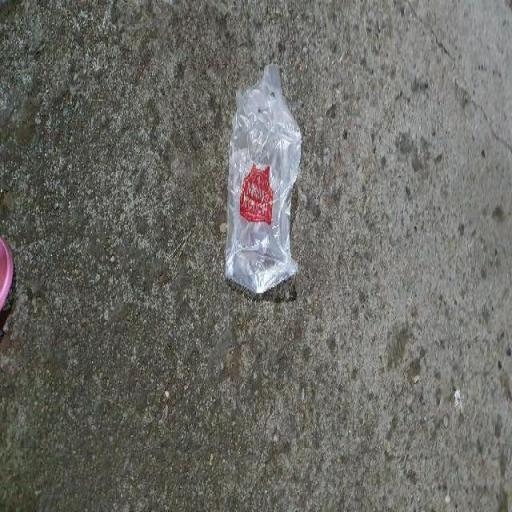plastic-bag: (223, 59, 299, 298)
